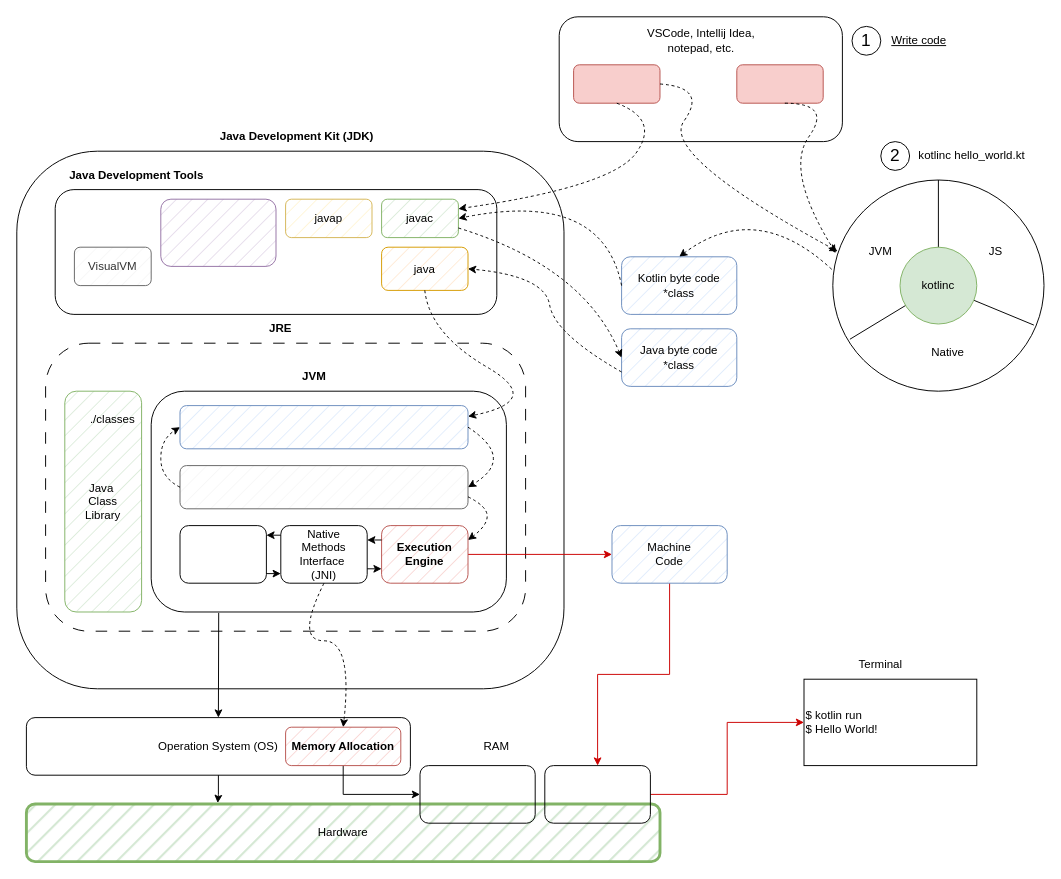
The diagram is 1061 pixels wide and 879 high, and some of its shapes have lost their labels. The shapes that lost their labels are listed below. From the top down, each one's centre as x and y in pixels, then its label:
At point 616,83: "*.java".
At point 779,83: "*.kt".
At point 218,232: "Other".
At point 323,427: "Class Loader".
At point 323,487: "Runtime Data Area".
At point 222,554: "Native Methods Libraries".
At point 477,794: "Native Memory".
At point 597,794: "Processor".
